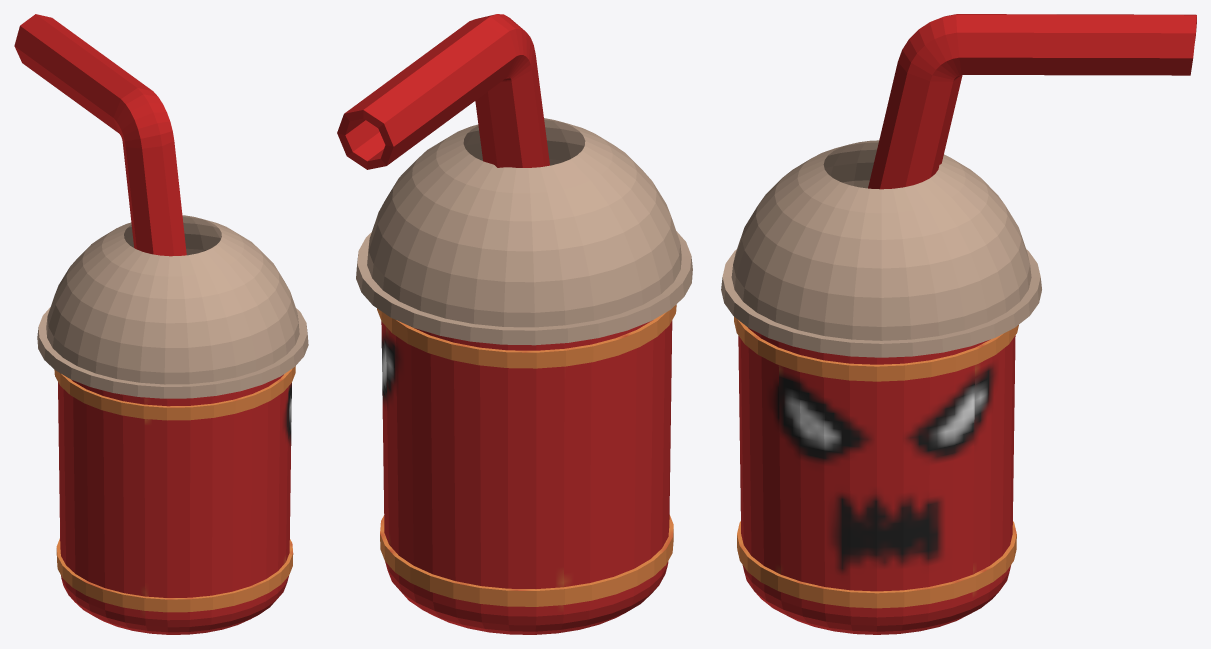
The model's file is SHOOTER_F.fbx.
The picture shows the model from 3 angles, left to right: view 1: azimuth 30°, elevation 25°; view 2: azimuth 150°, elevation 25°; view 3: azimuth 270°, elevation 25°; orthographic projection. The views are drawn at different scales.
Parts seen in each view (by area): view 1: Normal_Shooter_Lid; view 2: Normal_Shooter_Lid; view 3: Normal_Shooter_Lid.
Part boxes in pixels (x1,y1,x2,y2): Normal_Shooter_Lid: (14, 14, 308, 634); Normal_Shooter_Lid: (337, 14, 692, 634); Normal_Shooter_Lid: (721, 14, 1196, 634).
Bounding box in the file's own units: 1849 × 3626 × 2740.
Materials: 1 (1 with a texture image).
